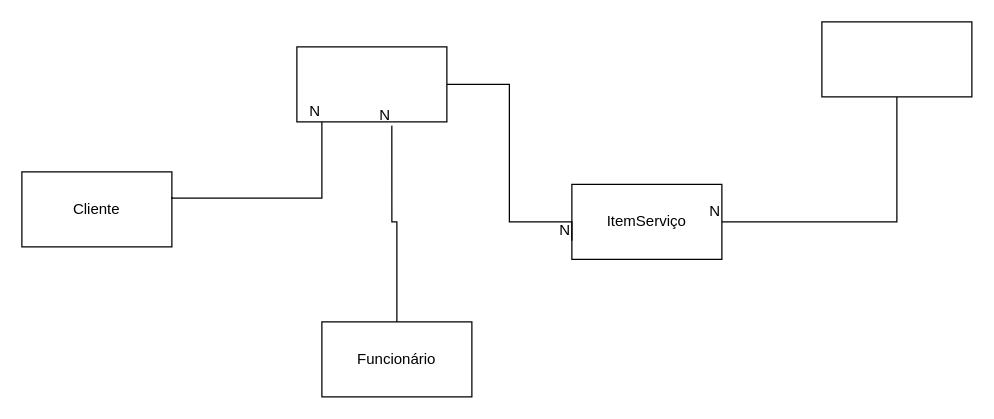
Image size: 994x419. Some labels were removed from this diagram. The centre of each missing label's shape, as x and y in pixels:
"Ordem de Serviço" goes at point (371, 84).
"Serviço" goes at point (896, 59).
